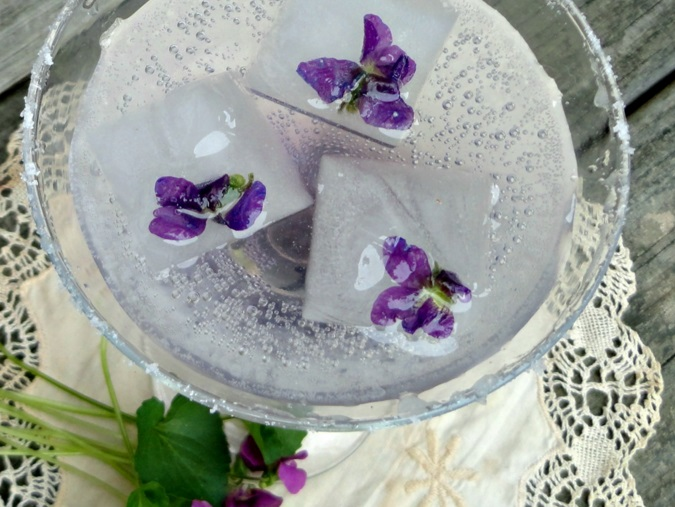violet: (297, 8, 430, 142), (131, 171, 298, 253), (361, 231, 479, 337), (225, 432, 312, 507)
